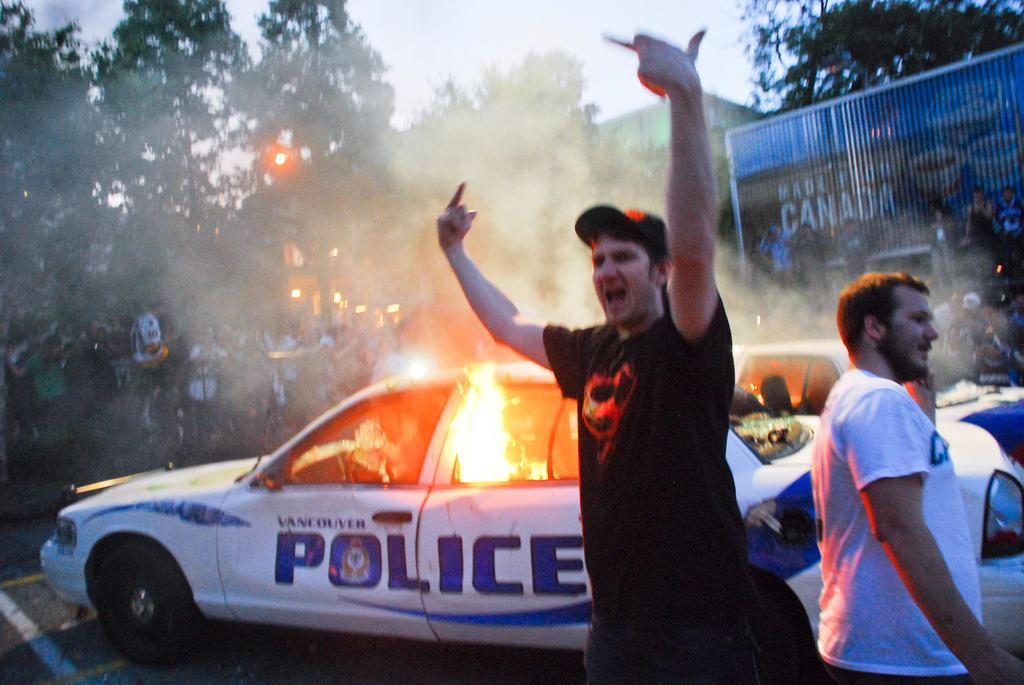fire: (445, 367, 525, 488)
